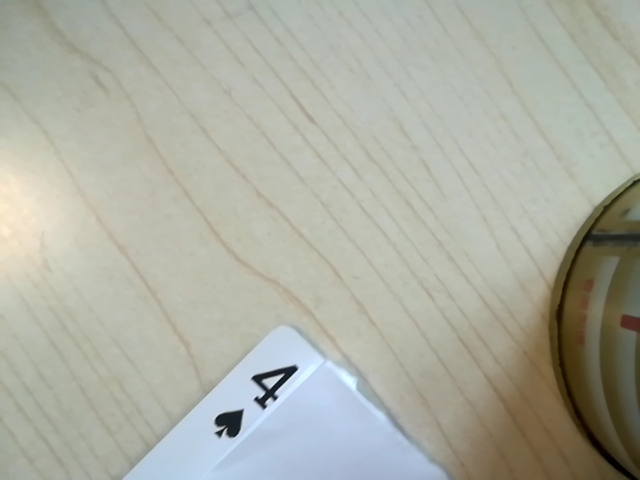ht 4: (198, 353, 312, 456)
